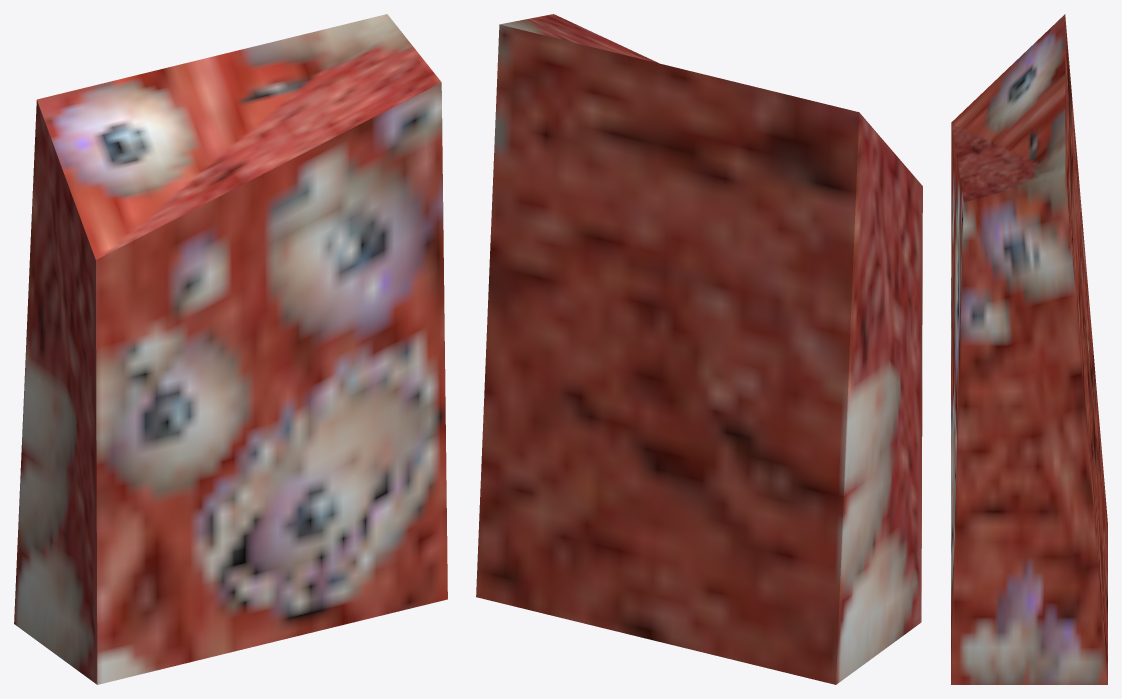
The model's file is door.glb.
The picture shows the model from 3 angles, left to right: view 1: azimuth 30°, elevation 25°; view 2: azimuth 150°, elevation 25°; view 3: azimuth 270°, elevation 25°; orthographic projection. The views are drawn at different scales.
Visible parts, largest first — view 1: Cube.001; view 2: Cube.001; view 3: Cube.001.
Boxes of the visible parts, left/top/right/bottom form: Cube.001: left=14, top=14, right=447, bottom=684; Cube.001: left=476, top=14, right=922, bottom=684; Cube.001: left=951, top=14, right=1107, bottom=684.
Size of the model in its own units: 2.01 by 2.95 by 0.8233.
1 material, 1 textured.
